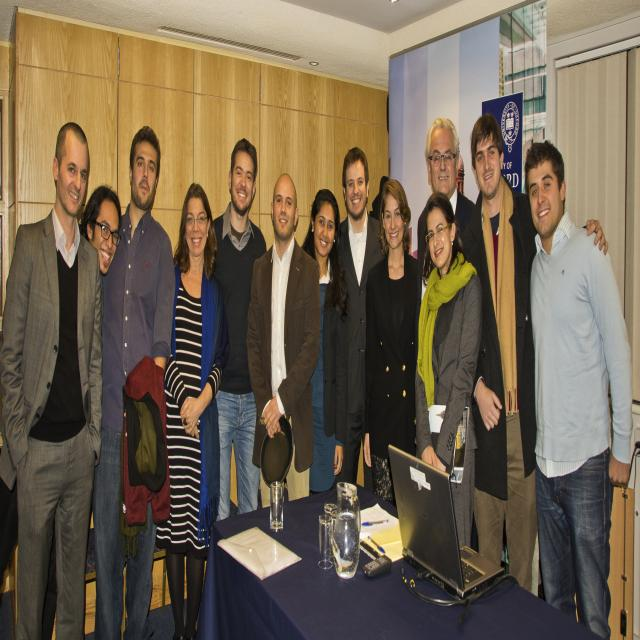body: (464, 118, 610, 589), (524, 141, 634, 640), (0, 119, 103, 640), (93, 126, 176, 640), (154, 180, 230, 640), (246, 171, 321, 509), (414, 192, 482, 556), (204, 138, 267, 522), (363, 178, 418, 510), (335, 147, 385, 498), (415, 117, 476, 368), (299, 188, 348, 500), (78, 186, 122, 284), (371, 163, 390, 214)
